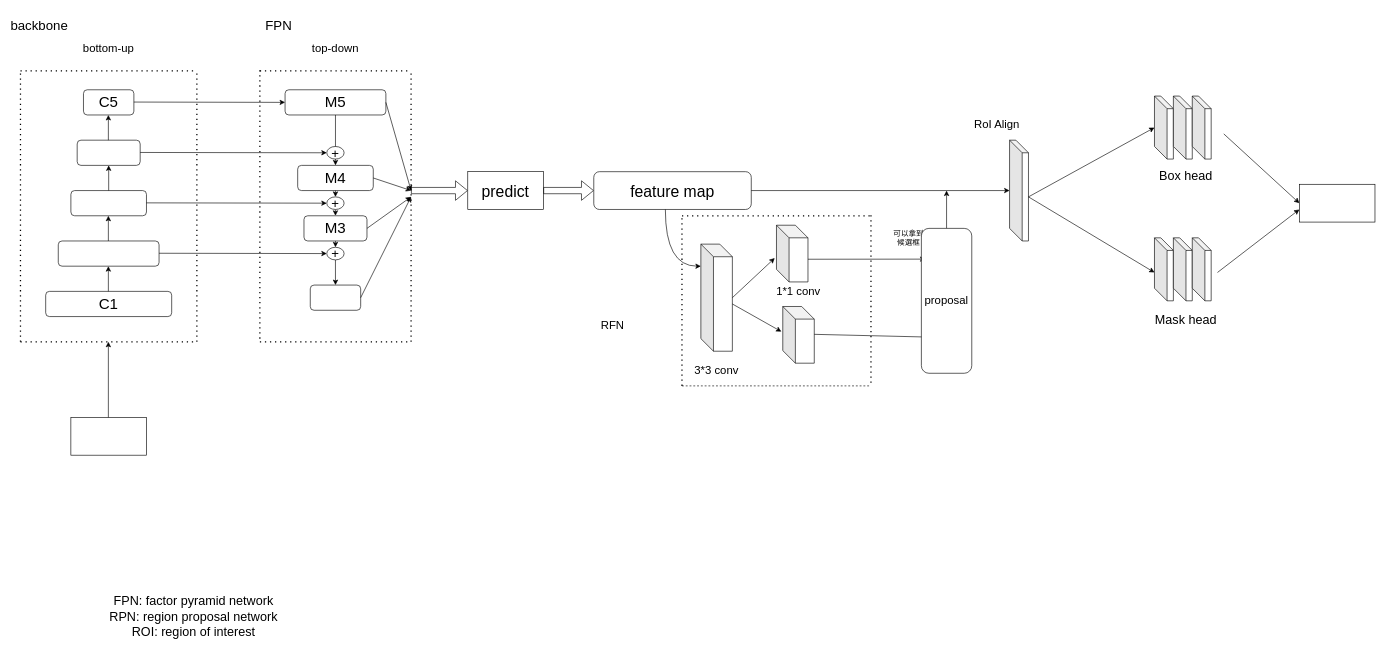
This 1386x667 diagram has some shape labels left out. Each missing label, with the box of its shape:
C2: (58, 240, 159, 266)
C3: (70, 190, 146, 216)
C4: (77, 140, 140, 165)
input: (70, 417, 146, 455)
M2: (310, 284, 361, 310)
output: (1299, 184, 1375, 222)
